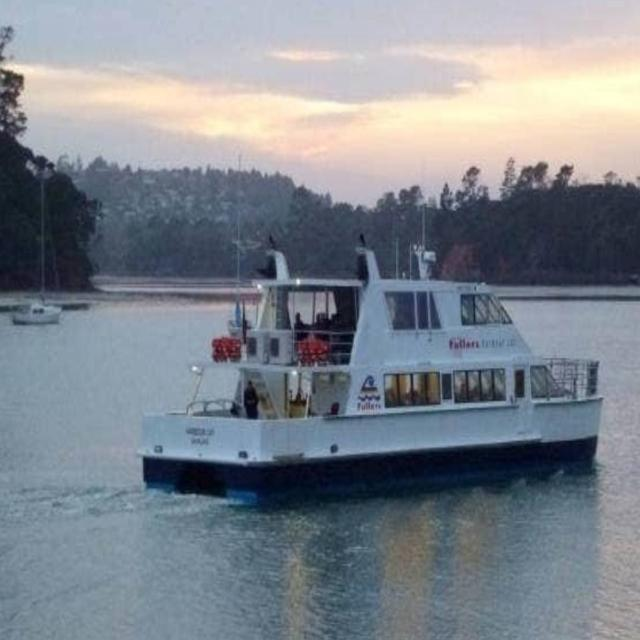houseboat: (148, 214, 600, 483)
